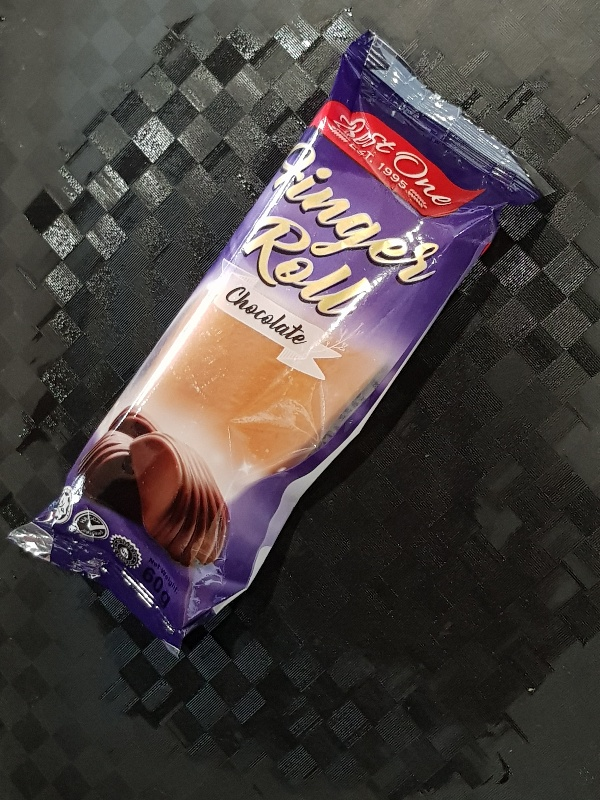Tinges Roll Chocolate: (3, 29, 553, 661)
